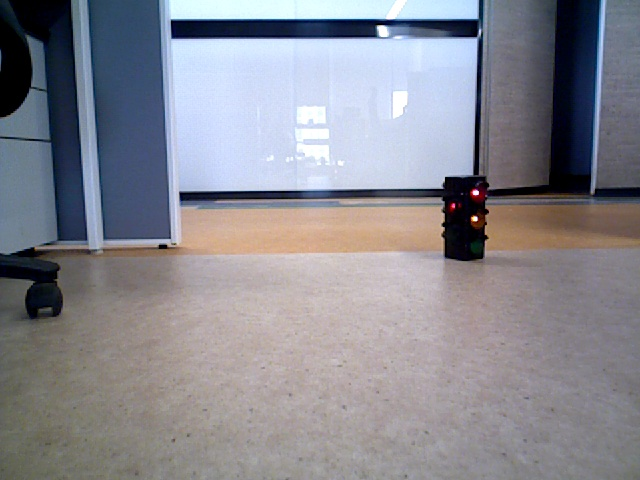red: (447, 176, 482, 255)
